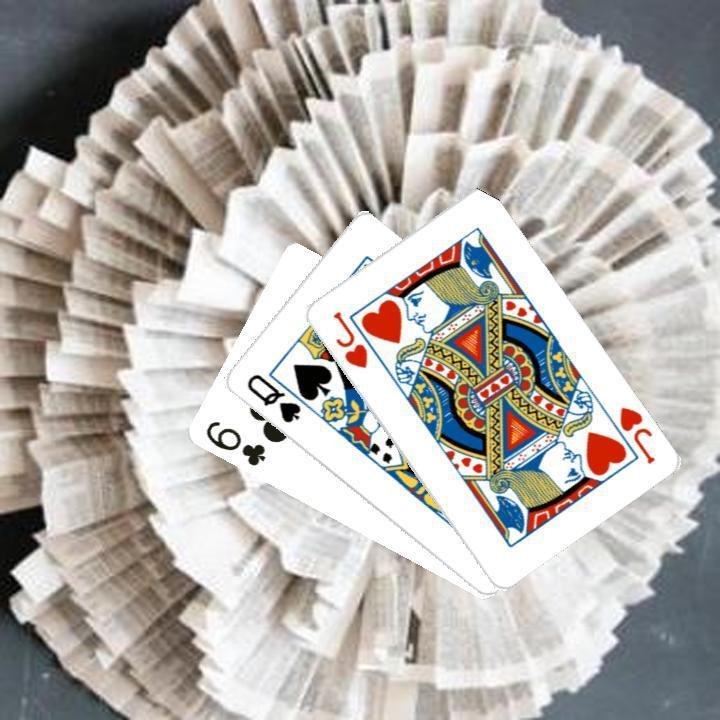6: (200, 416, 267, 469)
J: (614, 402, 657, 466), (328, 306, 370, 371)
Q: (241, 369, 303, 425)
